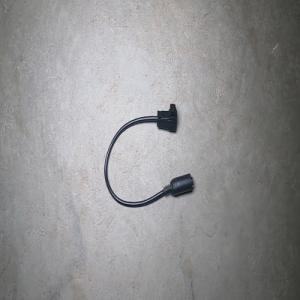Wire: (104, 103, 193, 207)
